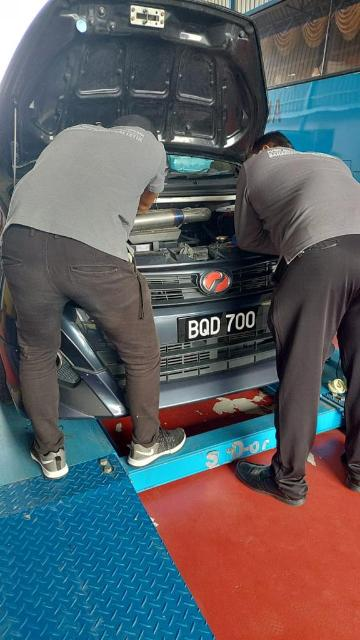License_Plate: (181, 303, 264, 347)
car: (1, 1, 355, 429)
